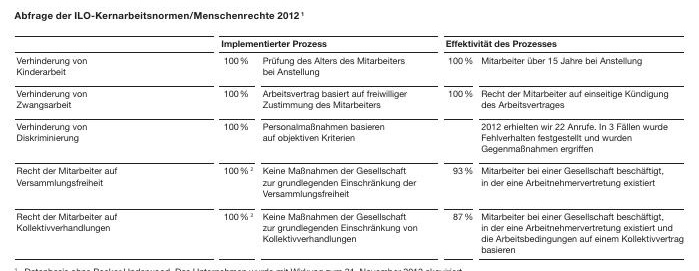table: (0, 0, 699, 271)
